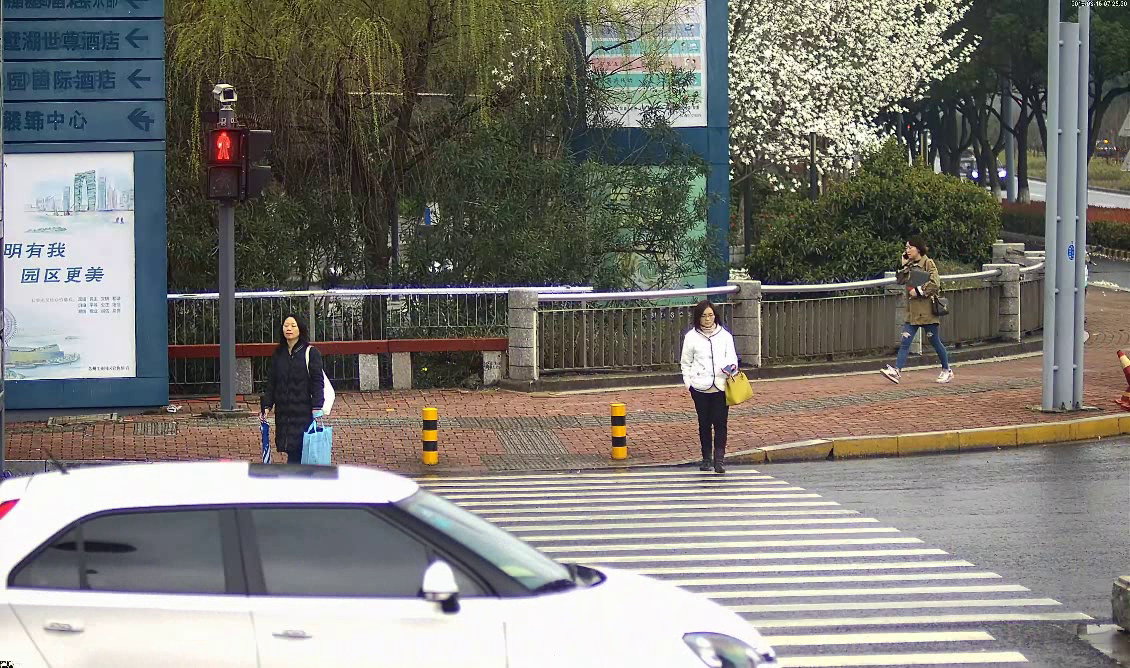person: (676, 293, 758, 481), (253, 311, 341, 468), (879, 230, 958, 389)
